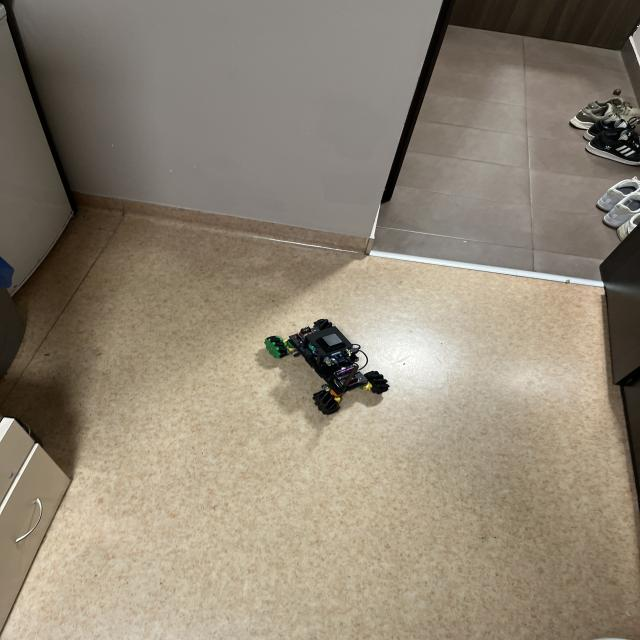robot: (265, 319, 389, 414)
